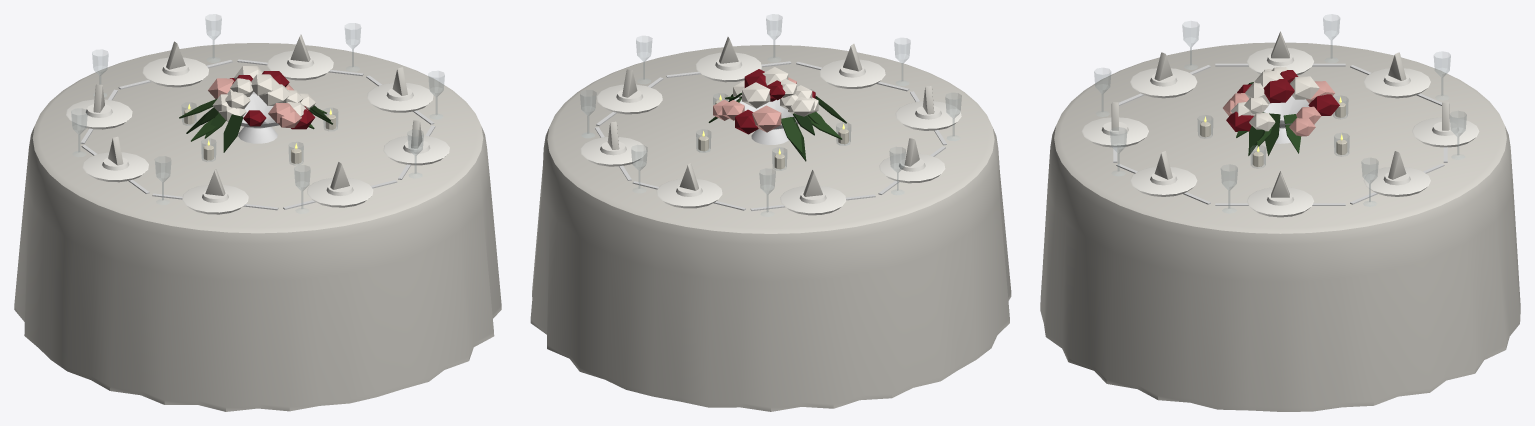
The model's file is banquet_table.glb.
The picture shows the model from 3 angles, left to right: view 1: azimuth 30°, elevation 25°; view 2: azimuth 150°, elevation 25°; view 3: azimuth 270°, elevation 25°; orthographic projection.
Parts seen in each view (by area): view 1: banquet_table; view 2: banquet_table; view 3: banquet_table.
Boxes of the visible parts, left/top/right/bottom form: banquet_table: left=14, top=14, right=501, bottom=411; banquet_table: left=530, top=14, right=1011, bottom=411; banquet_table: left=1040, top=14, right=1520, bottom=411.
Bounding box in the file's own units: 1.92 × 1.05 × 1.92.
